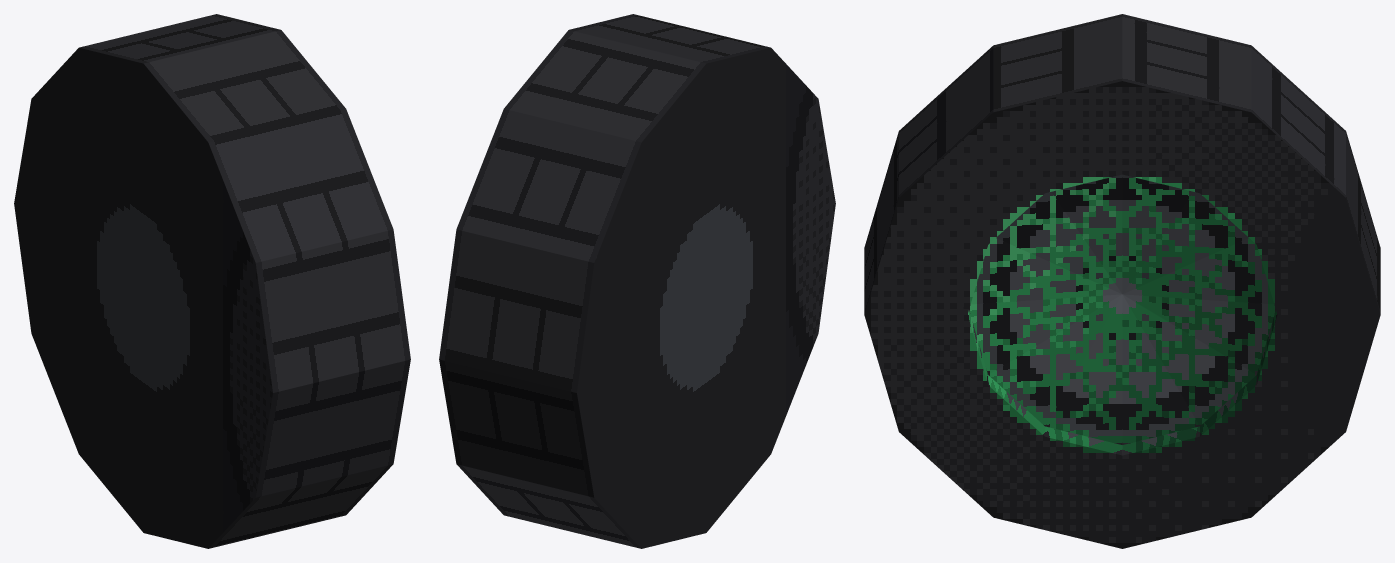
File: wheel_mesh.glb
The picture shows the model from 3 angles, left to right: view 1: azimuth 30°, elevation 25°; view 2: azimuth 150°, elevation 25°; view 3: azimuth 270°, elevation 25°; orthographic projection.
Parts seen in each view (by area): view 1: wheel_mesh; view 2: wheel_mesh; view 3: wheel_mesh.
Boxes of the visible parts, x1,y1,x2,y2 form: wheel_mesh: [14, 14, 410, 548]; wheel_mesh: [439, 14, 835, 548]; wheel_mesh: [864, 14, 1380, 548].
Bounding box in the file's own units: 0.195 × 0.6345 × 0.6345.
Materials: 1 (1 with a texture image).
